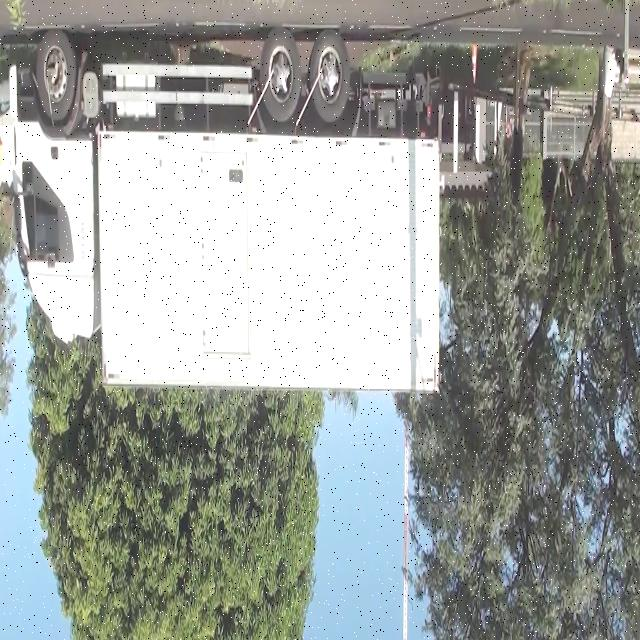-axle: (258, 30, 302, 118), (34, 32, 75, 117), (311, 36, 347, 120)
